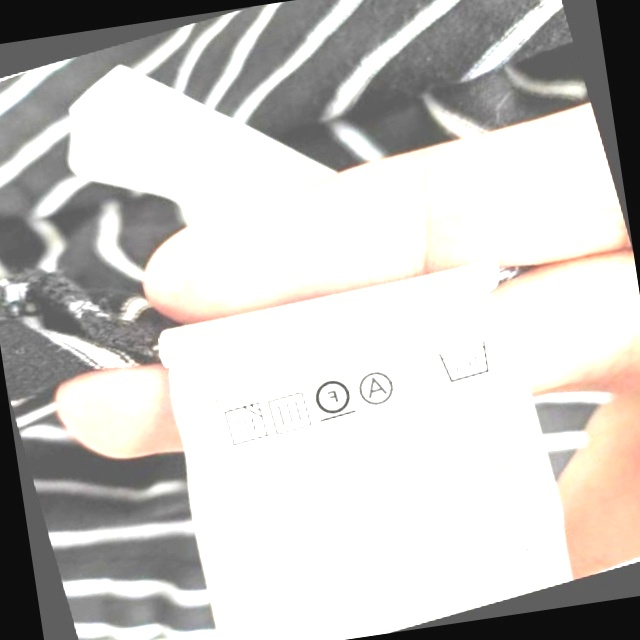95C: (433, 335, 497, 387)
bleach: (397, 350, 441, 399)
drip_dry: (263, 386, 316, 438)
drip_dry_in_shade: (216, 398, 271, 452)
dry_clean: (354, 365, 400, 410)
dry_clean_petrol_only: (308, 371, 357, 425)
